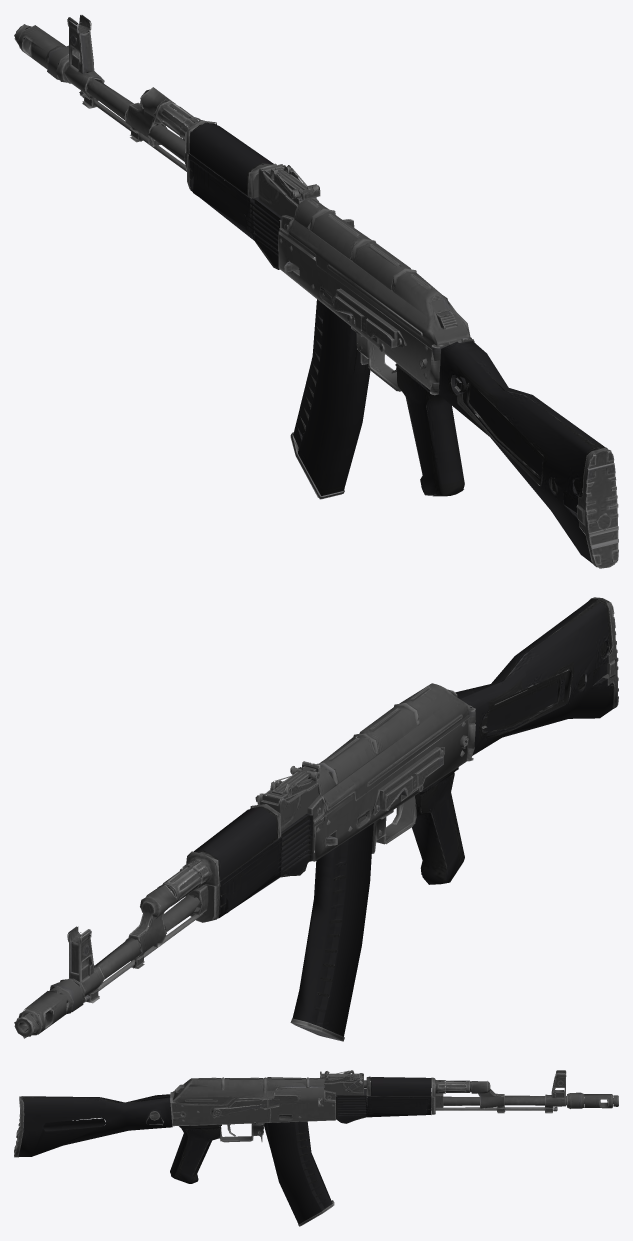
Rendered from npc_rifle.glb.
3 views of the same model, one above another, from view 1: azimuth 30°, elevation 25°; view 2: azimuth 150°, elevation 25°; view 3: azimuth 270°, elevation 25° (orthographic). The views are drawn at different scales.
Visible parts, largest first — view 1: AK; view 2: AK; view 3: AK.
Part boxes in pixels (x1=…): AK: x1=14, y1=15, x2=618, y2=568; AK: x1=14, y1=597, x2=618, y2=1041; AK: x1=14, y1=1070, x2=618, y2=1226.
Size of the model in its own units: 0.0632 by 0.262 by 0.9434.
Materials: 1 (1 with a texture image).
